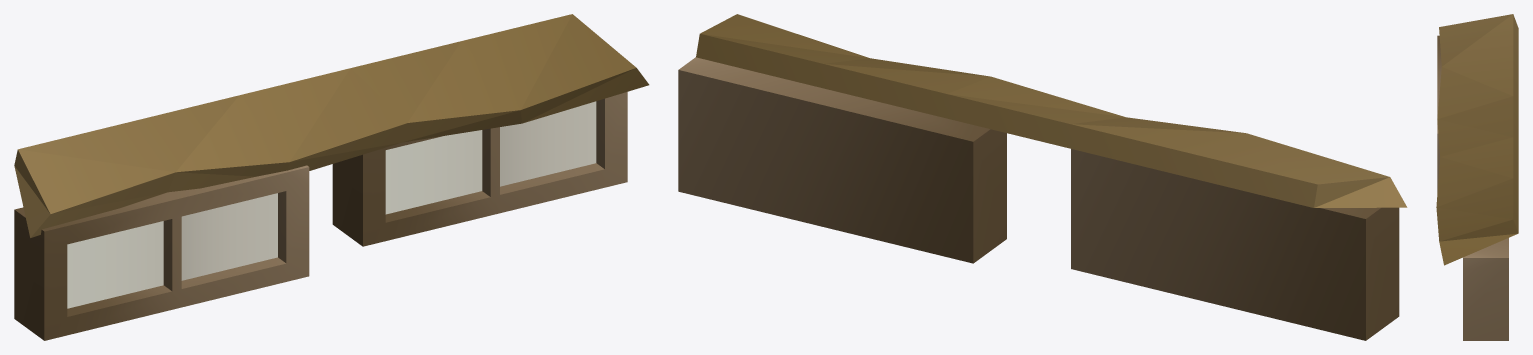
File: Farmhouse_2xWindows.gltf
3 renders of one model, left to right at view 1: azimuth 30°, elevation 25°; view 2: azimuth 150°, elevation 25°; view 3: azimuth 270°, elevation 25°, orthographic. The views are drawn at different scales.
Visible parts, largest first — view 1: Farmhouse_2xWindows; view 2: Farmhouse_2xWindows; view 3: Farmhouse_2xWindows.
Boxes of the visible parts, <box> form: Farmhouse_2xWindows: <box>14,14,649,340</box>; Farmhouse_2xWindows: <box>678,14,1407,340</box>; Farmhouse_2xWindows: <box>1436,14,1518,340</box>.
Bounding box in the file's own units: 2.9 × 0.6676 × 0.4383.
Materials: 1 (1 with a texture image).
